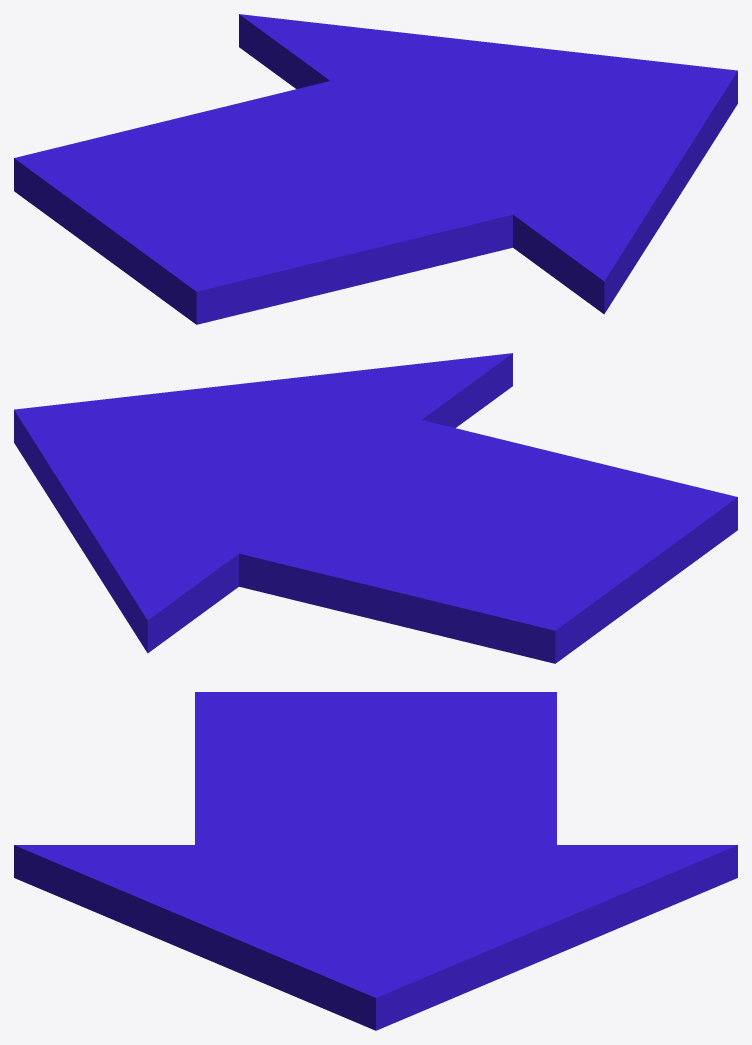
Rendered from arrow.glb.
3 views of the same model, one above another, from view 1: azimuth 30°, elevation 25°; view 2: azimuth 150°, elevation 25°; view 3: azimuth 270°, elevation 25° (orthographic).
Visible parts, largest first — view 1: Arrow; view 2: Arrow; view 3: Arrow.
Boxes of the visible parts, <box> form: Arrow: <box>14,14,737,324</box>; Arrow: <box>14,353,737,663</box>; Arrow: <box>14,692,737,1030</box>.
Size of the model in its own units: 4 by 0.2 by 4.
